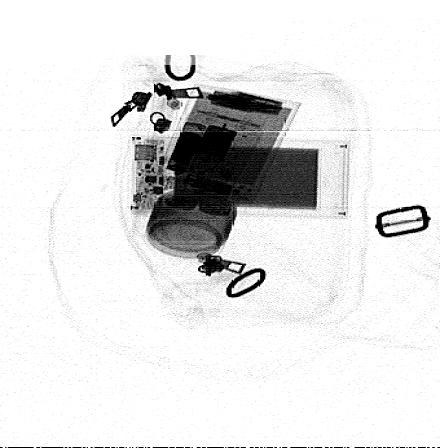Powerbank: (125, 136, 350, 219), (149, 83, 302, 205)
